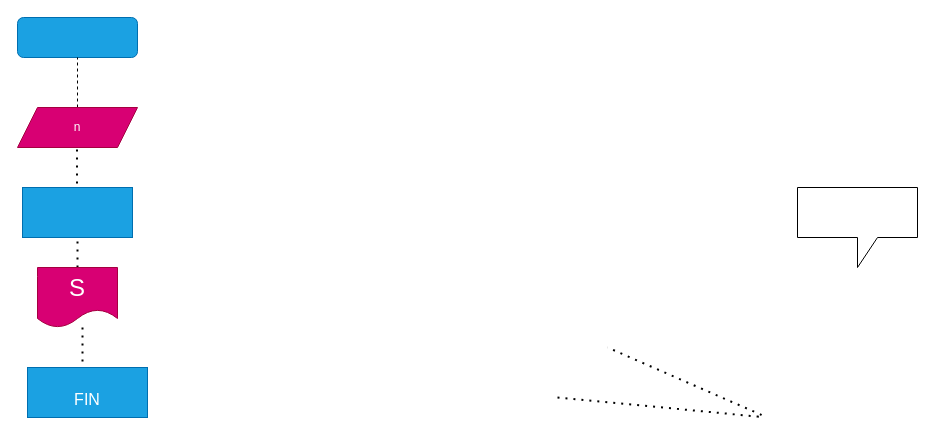
This 935x437 diagram has some shape labels left out. The shapes that lost their labels are listed below. From the top down, each one's centre as x and y in pixels, then its label:
At point (77, 37): "Inicio".
At point (77, 212): "s=n(n+1)".
